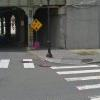Crosswalk: (45, 57, 100, 100)
